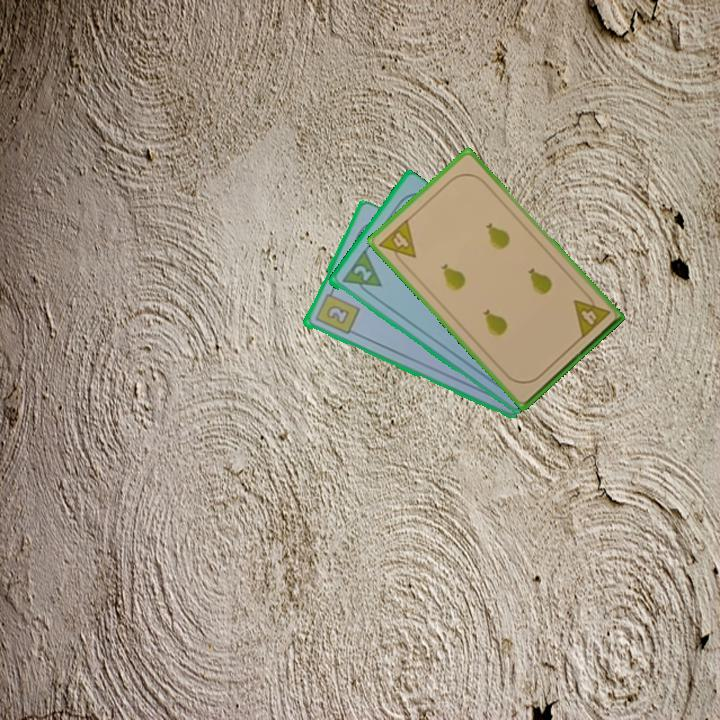2b: (311, 285, 362, 337)
2p: (338, 248, 384, 300)
4p: (375, 215, 419, 270), (570, 288, 613, 342)
